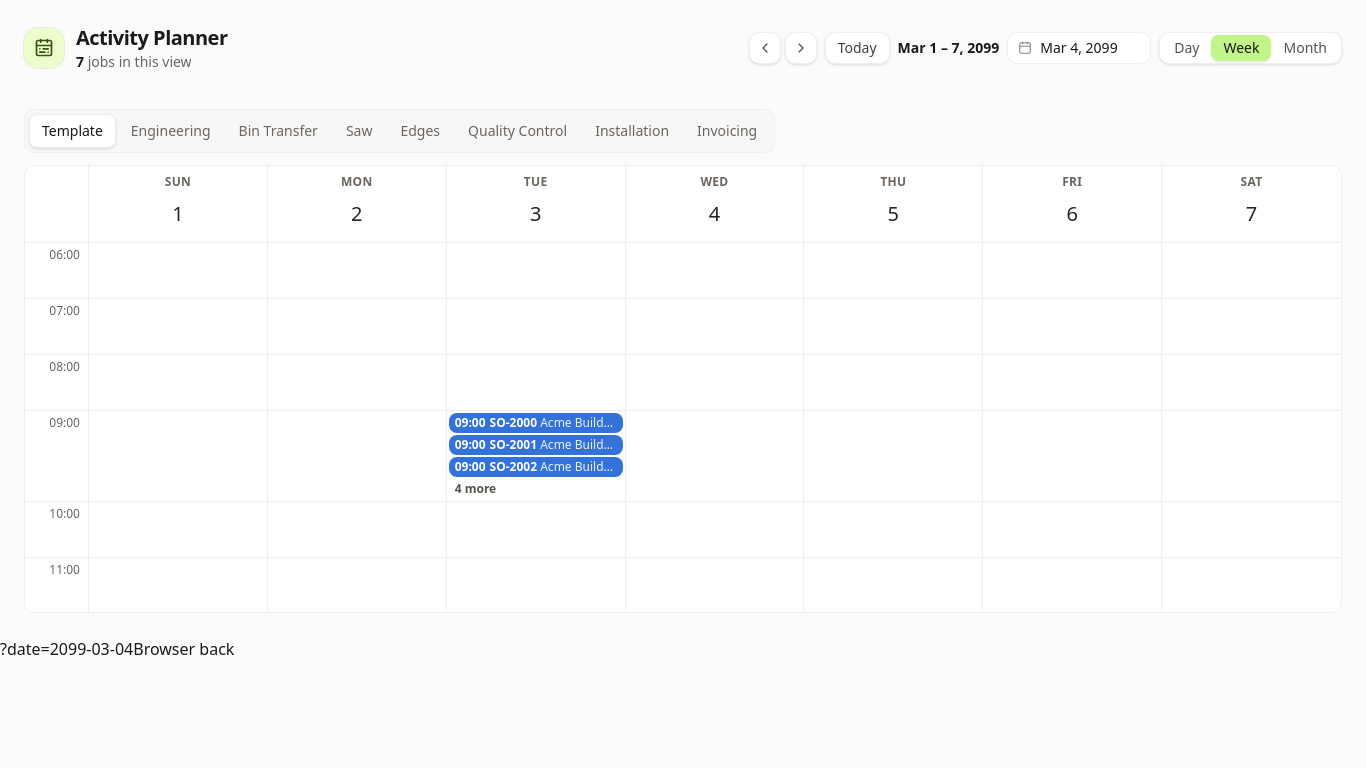
Test: ActivityPlannerPage busy days › folds a busy hour behind "N more", which lists every job without growing the grid
(page scrolled)
Expected: the text "SO-2000" is shown, [490,415,537,431]
Expected: the number of buttons "09:00 SO-2000 Acme Builders" is 3, [449,413,623,433]; [449,435,623,455]; [449,457,623,477]
What coordinates should you click on to do the following:
click the button with aria-label "Show all 7 jobs for Tue, Mar 3, 09:00"
I would click on:
 (536, 489)
Its box is [449,479,623,499].
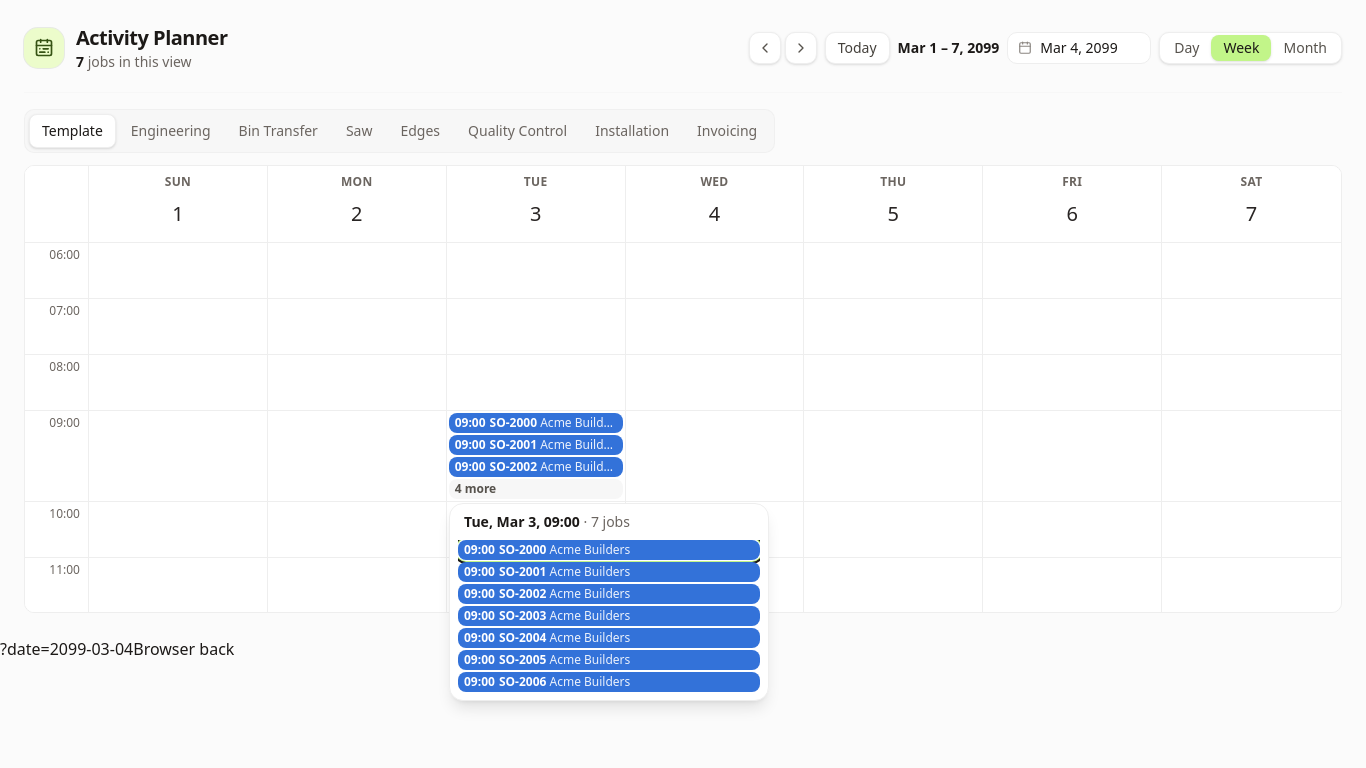
Expected: the number of buttons "09:00 SO-2000 Acme Builders" is 7
Expected: the text "SO-2006" is shown, [499,674,546,690]
Expected: the number of buttons "09:00 SO-2000 Acme Builders" is 3, [449,413,623,433]; [449,435,623,455]; [449,457,623,477]
